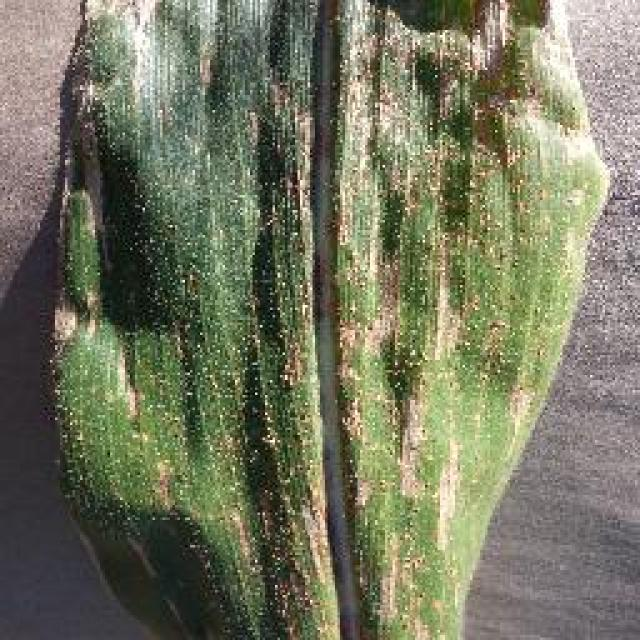Corn___Cercospora_leaf_spot Gray_leaf_spot: (25, 0, 627, 640)
